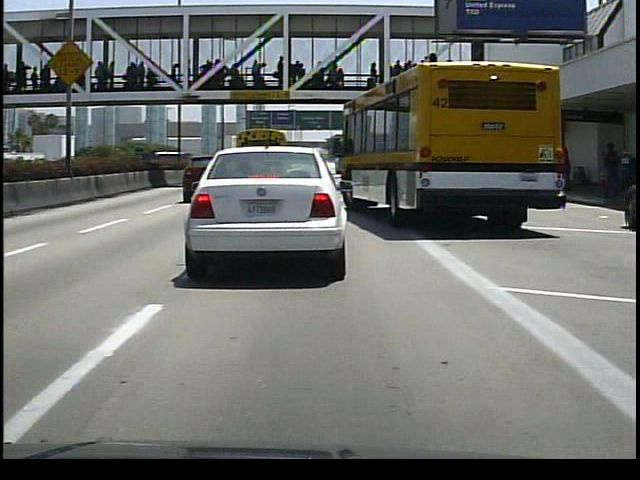person: (599, 141, 627, 206)
